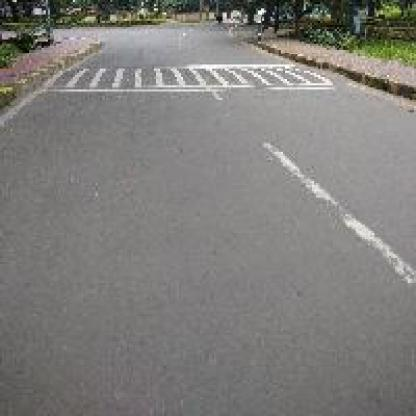Speed Bump: (39, 62, 337, 90)
